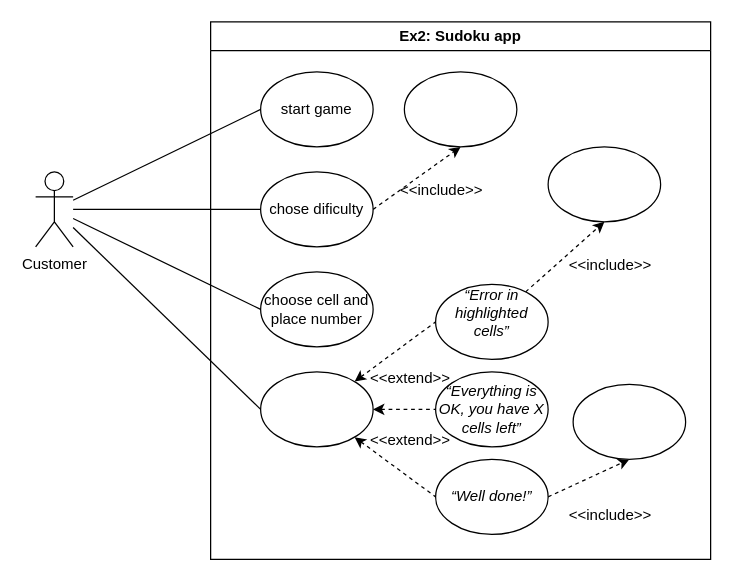
This 733x581 diagram has some shape labels left out. The centre of each missing label's shape, as x and y in pixels:
highlight wrong cells: (604,184)
Press "Check" button: (316,409)
show stats and total time: (629,421)
start timer: (460,109)
